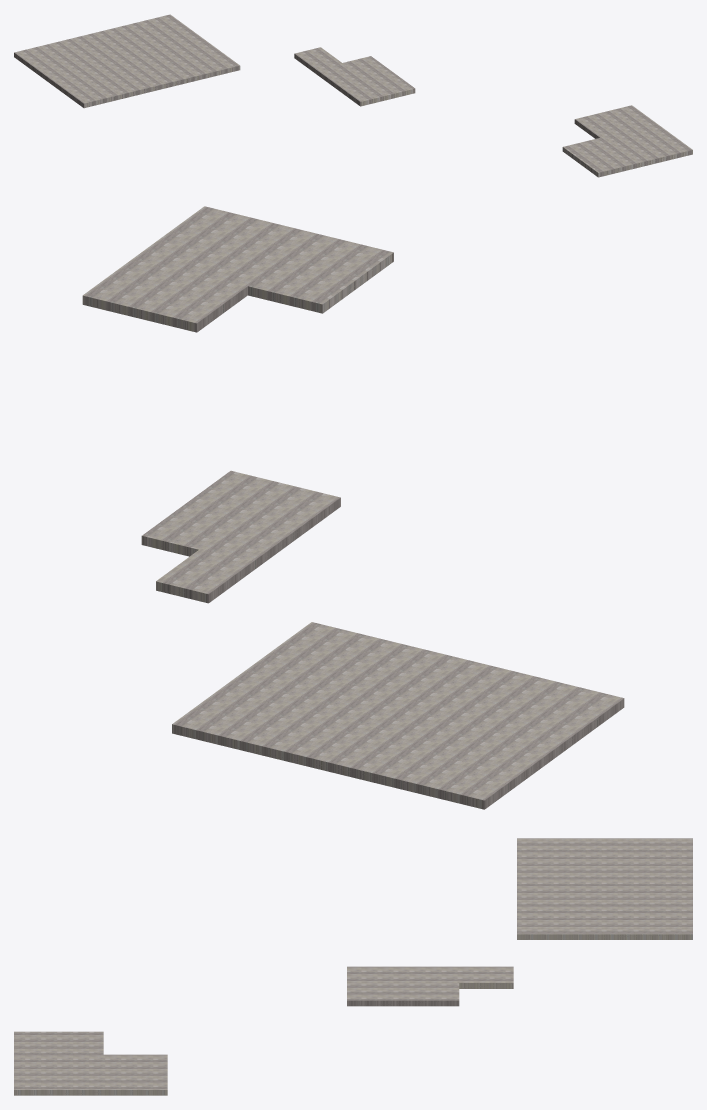
The model's file is 1989_bathroom_Floor_WatercrestPinePlusReclaimedPine_.gltf.
3 views of the same model, one above another, from view 1: azimuth 30°, elevation 25°; view 2: azimuth 150°, elevation 25°; view 3: azimuth 270°, elevation 25° (orthographic). The views are drawn at different scales.
Parts seen in each view (by area): view 1: Floors_watercrest_pine_plus_reclaimed_pine; view 2: Floors_watercrest_pine_plus_reclaimed_pine; view 3: Floors_watercrest_pine_plus_reclaimed_pine.
Boxes of the visible parts, <box> form: Floors_watercrest_pine_plus_reclaimed_pine: <box>14,14,692,177</box>; Floors_watercrest_pine_plus_reclaimed_pine: <box>82,206,624,809</box>; Floors_watercrest_pine_plus_reclaimed_pine: <box>14,838,692,1095</box>.
Size of the model in its own units: 18.6 by 0.2 by 21.2.
Materials: 1 (1 with a texture image).
